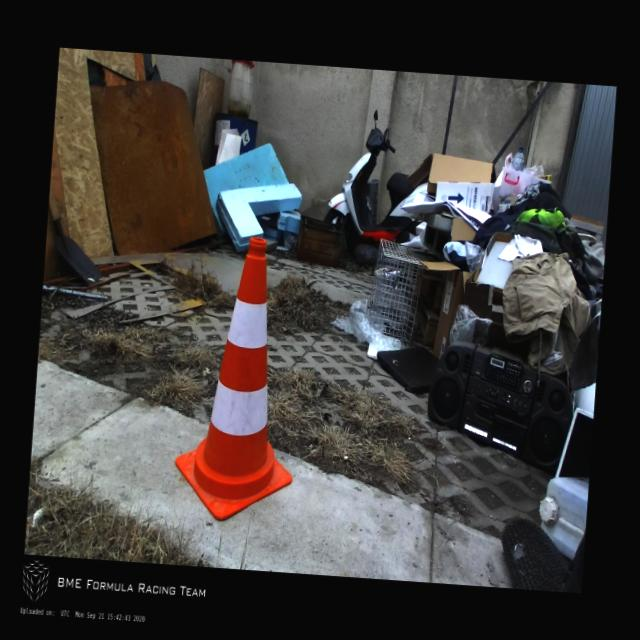large_orange_cone: (171, 233, 307, 525)
